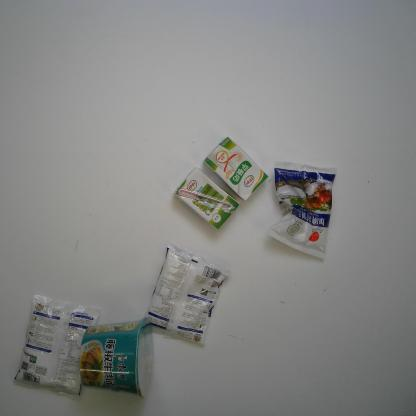Instant Noodles: (78, 317, 156, 401)
Milk: (203, 135, 271, 202), (173, 165, 241, 232)
Seasoner: (10, 292, 102, 402), (142, 238, 232, 347), (264, 160, 340, 261)
